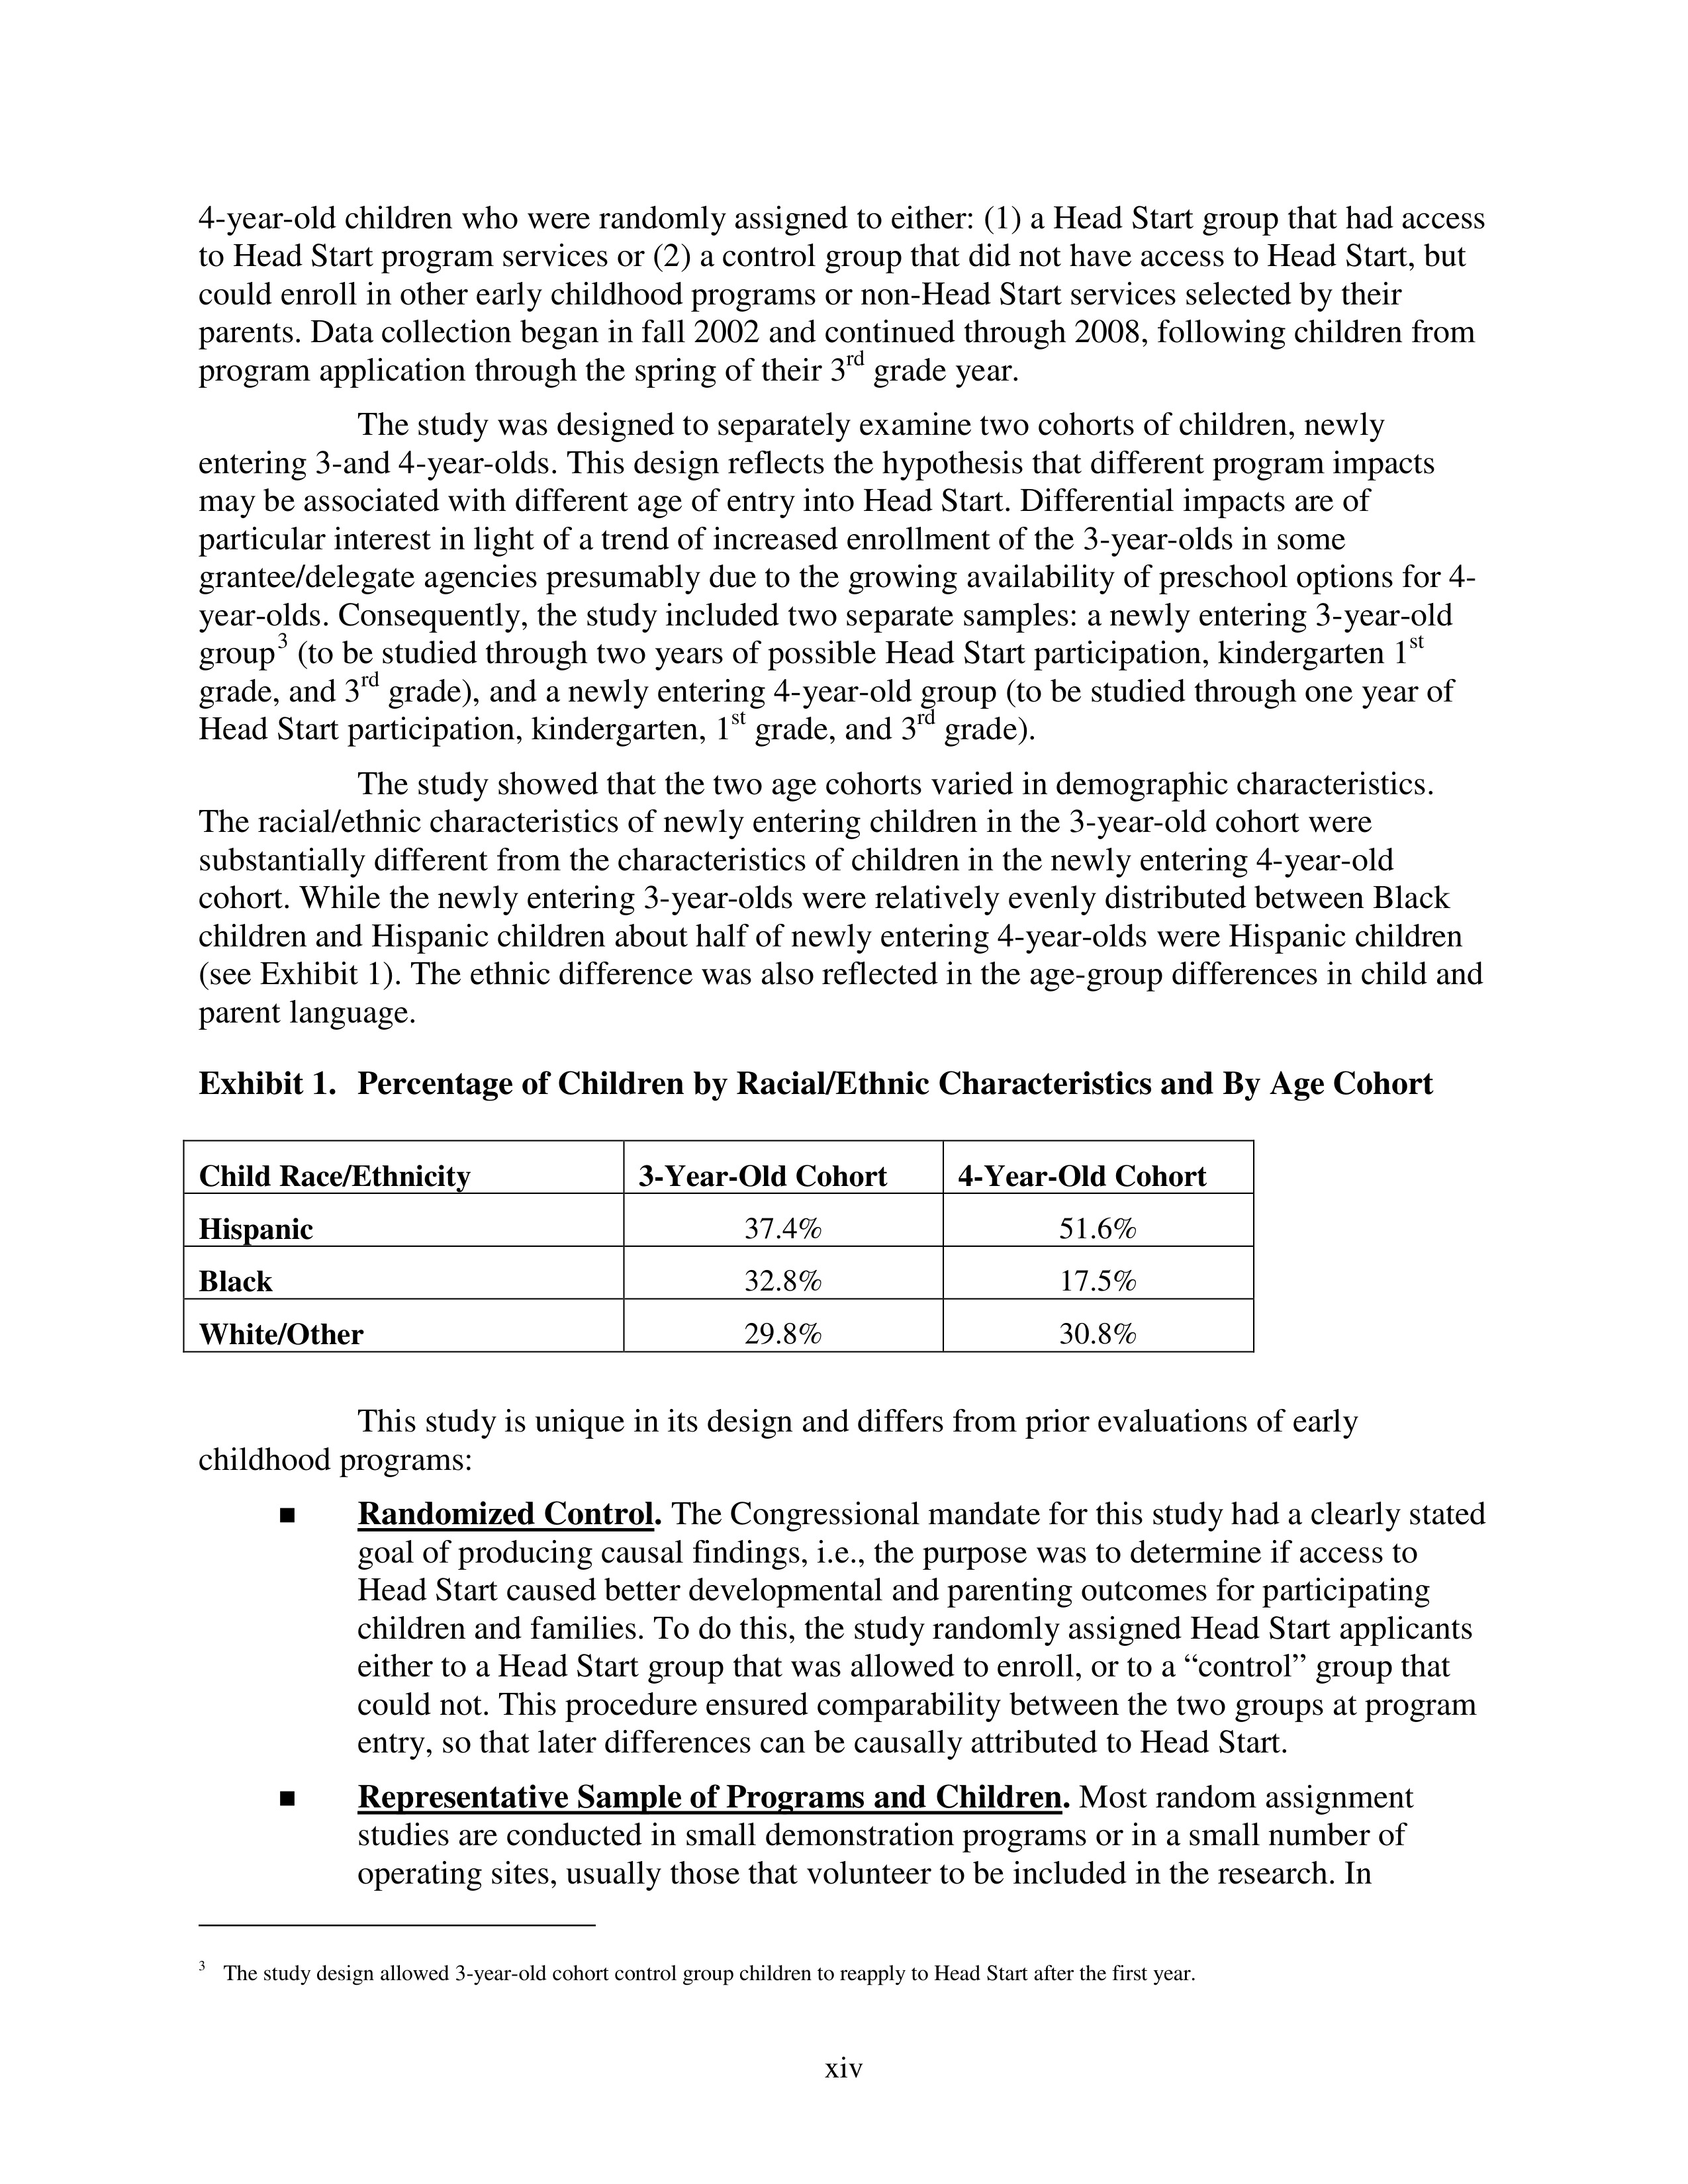table: (199, 1154, 1207, 1354)
